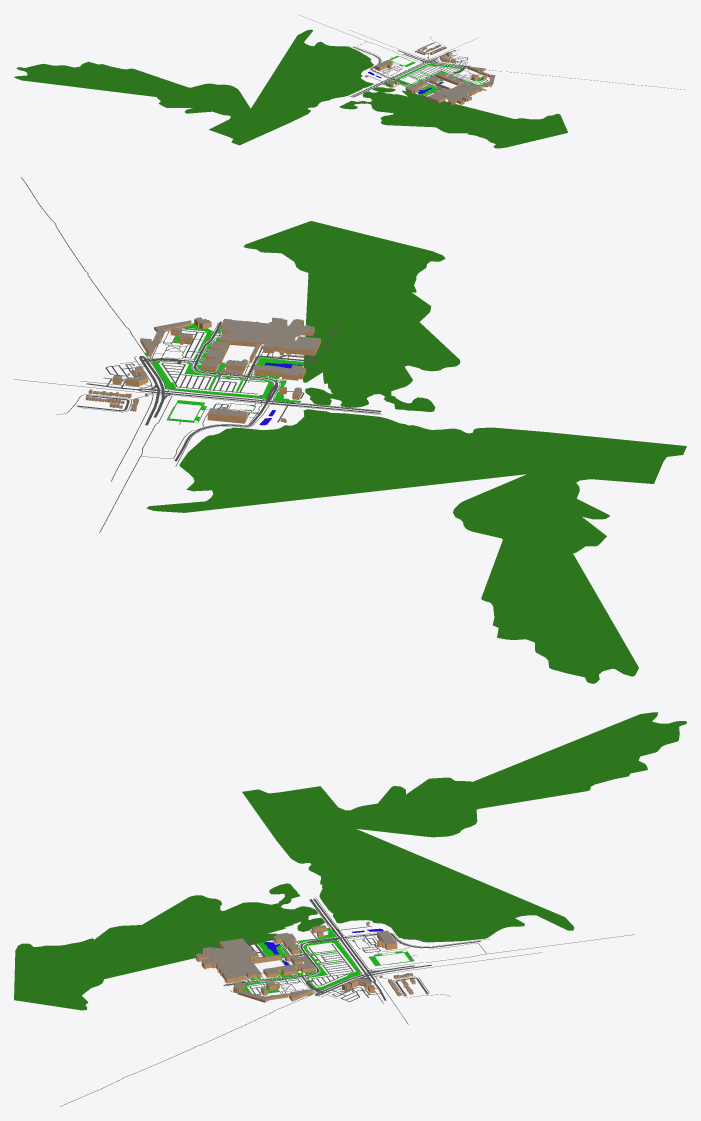
The model's file is basemap.fbx.
3 renders of one model, top to bottom at view 1: azimuth 30°, elevation 25°; view 2: azimuth 150°, elevation 25°; view 3: azimuth 270°, elevation 25°, orthographic. The views are drawn at different scales.
Visible parts, largest first — view 1: element.045, element.046, Durham College; view 2: element.045, element.046, Durham College; view 3: element.045, element.046, Durham College.
Part boxes in pixels (x1=…): element.045: x1=14, y1=29, x2=395, y2=145; element.046: x1=367, y1=90, x2=567, y2=148; Durham College: x1=434, y1=84, x2=482, y2=105; element.045: x1=146, y1=387, x2=686, y2=683; element.046: x1=243, y1=221, x2=460, y2=396; Durham College: x1=221, y1=317, x2=314, y2=354; element.045: x1=242, y1=712, x2=686, y2=942; element.046: x1=14, y1=895, x2=300, y2=1010; Durham College: x1=195, y1=946, x2=258, y2=983.
Size of the model in its own units: 307322 by 1983 by 221480.
